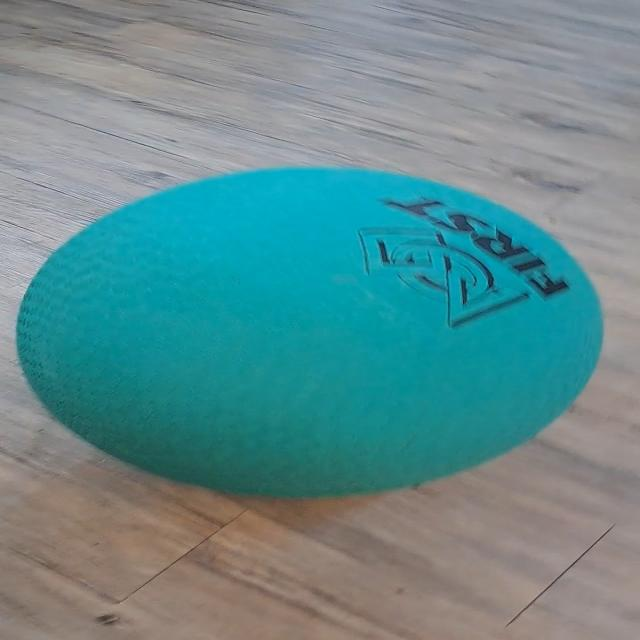ALGAE: (13, 164, 606, 500)
